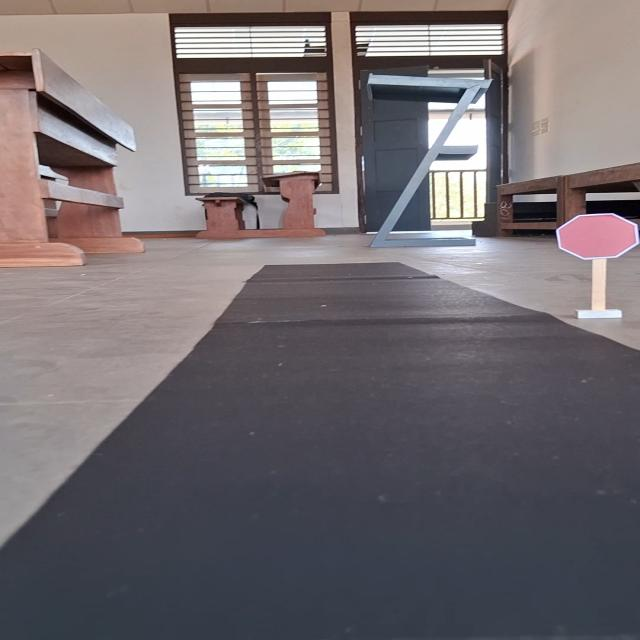Stop: (553, 212, 640, 262)
